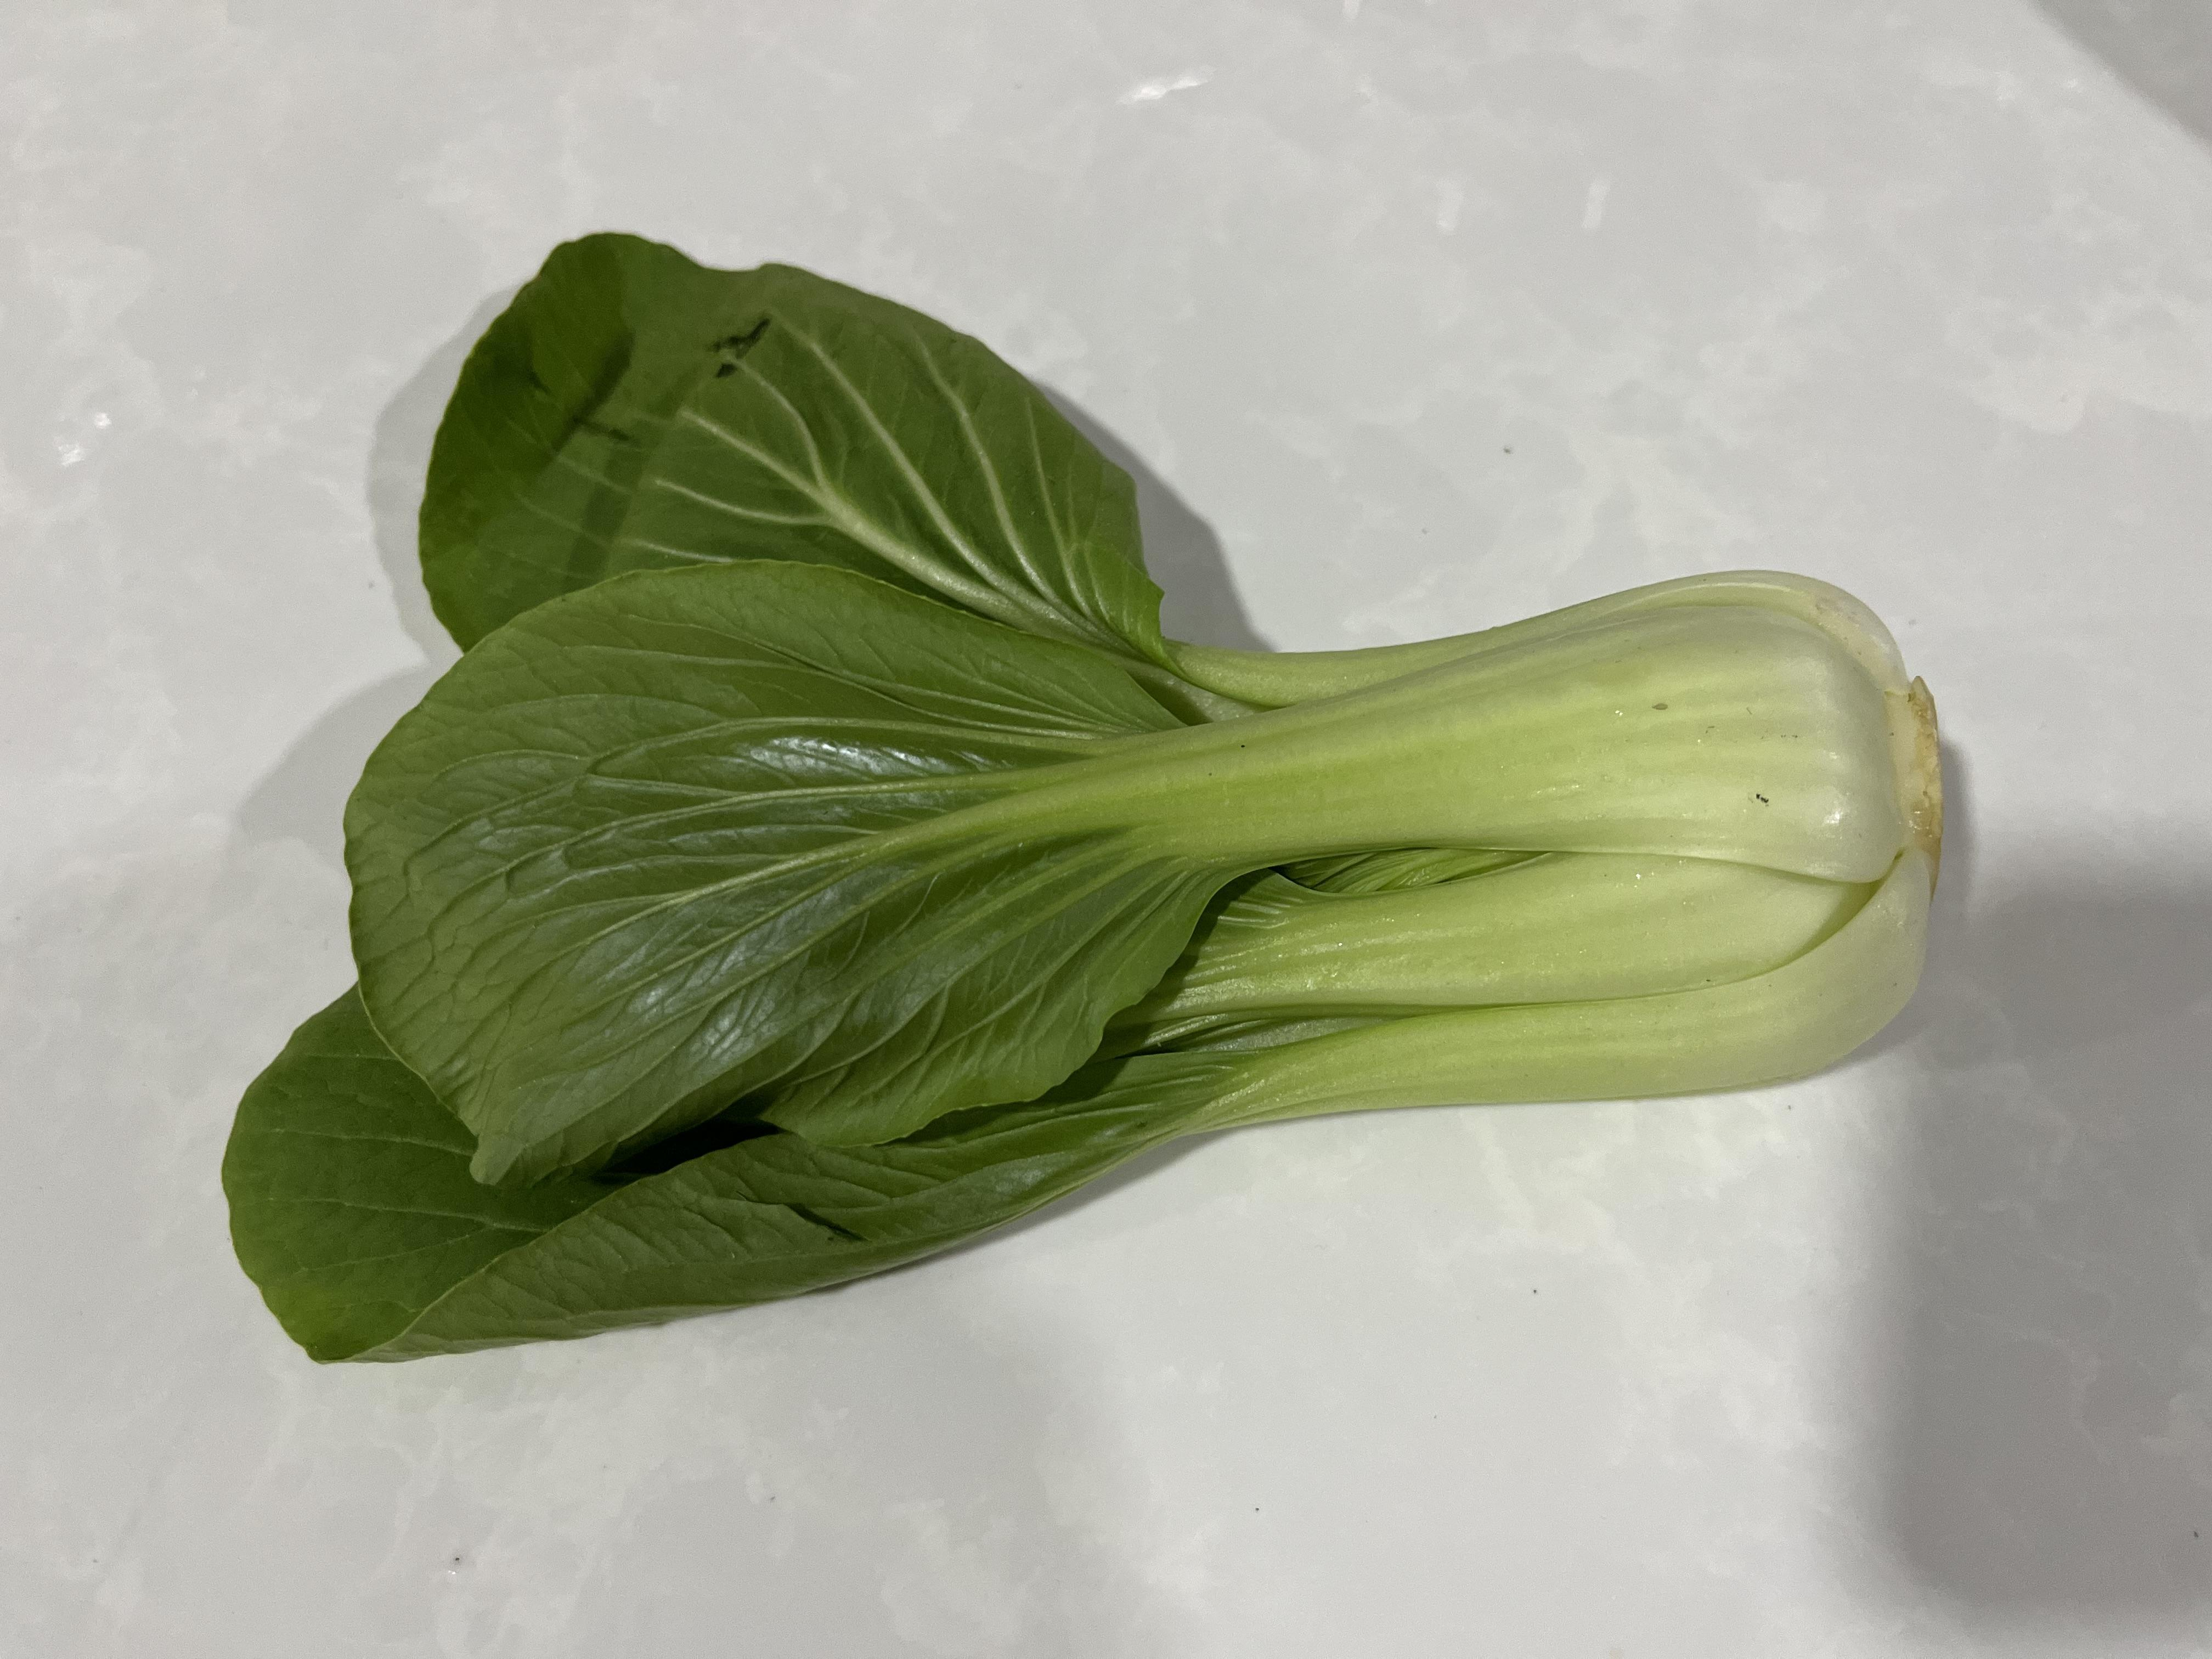Healthy-Pechay: (209, 138, 2019, 1420)
